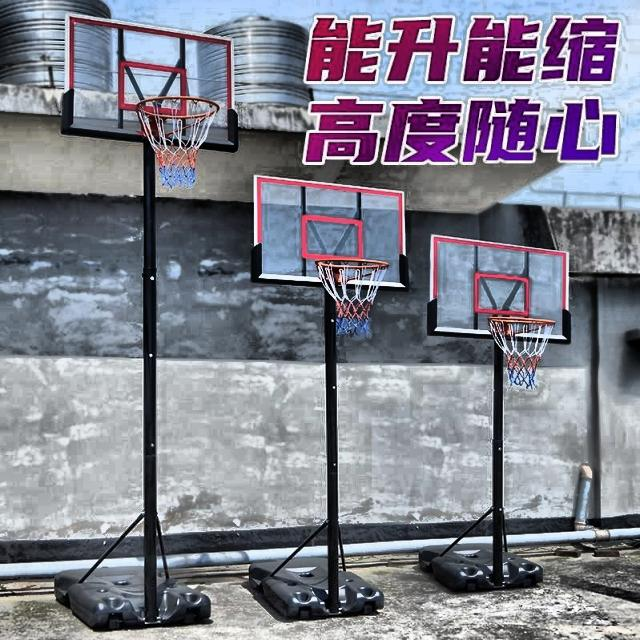rim: (132, 96, 220, 184), (313, 258, 389, 338), (484, 318, 557, 387)
